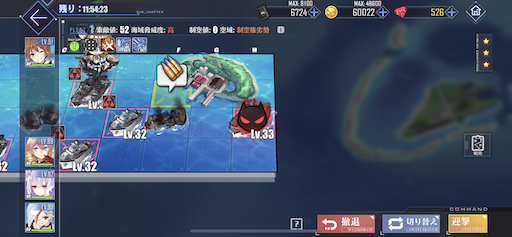boss: (229, 100, 274, 140)
lv3: (53, 125, 96, 169), (67, 67, 111, 109), (102, 95, 144, 137)
